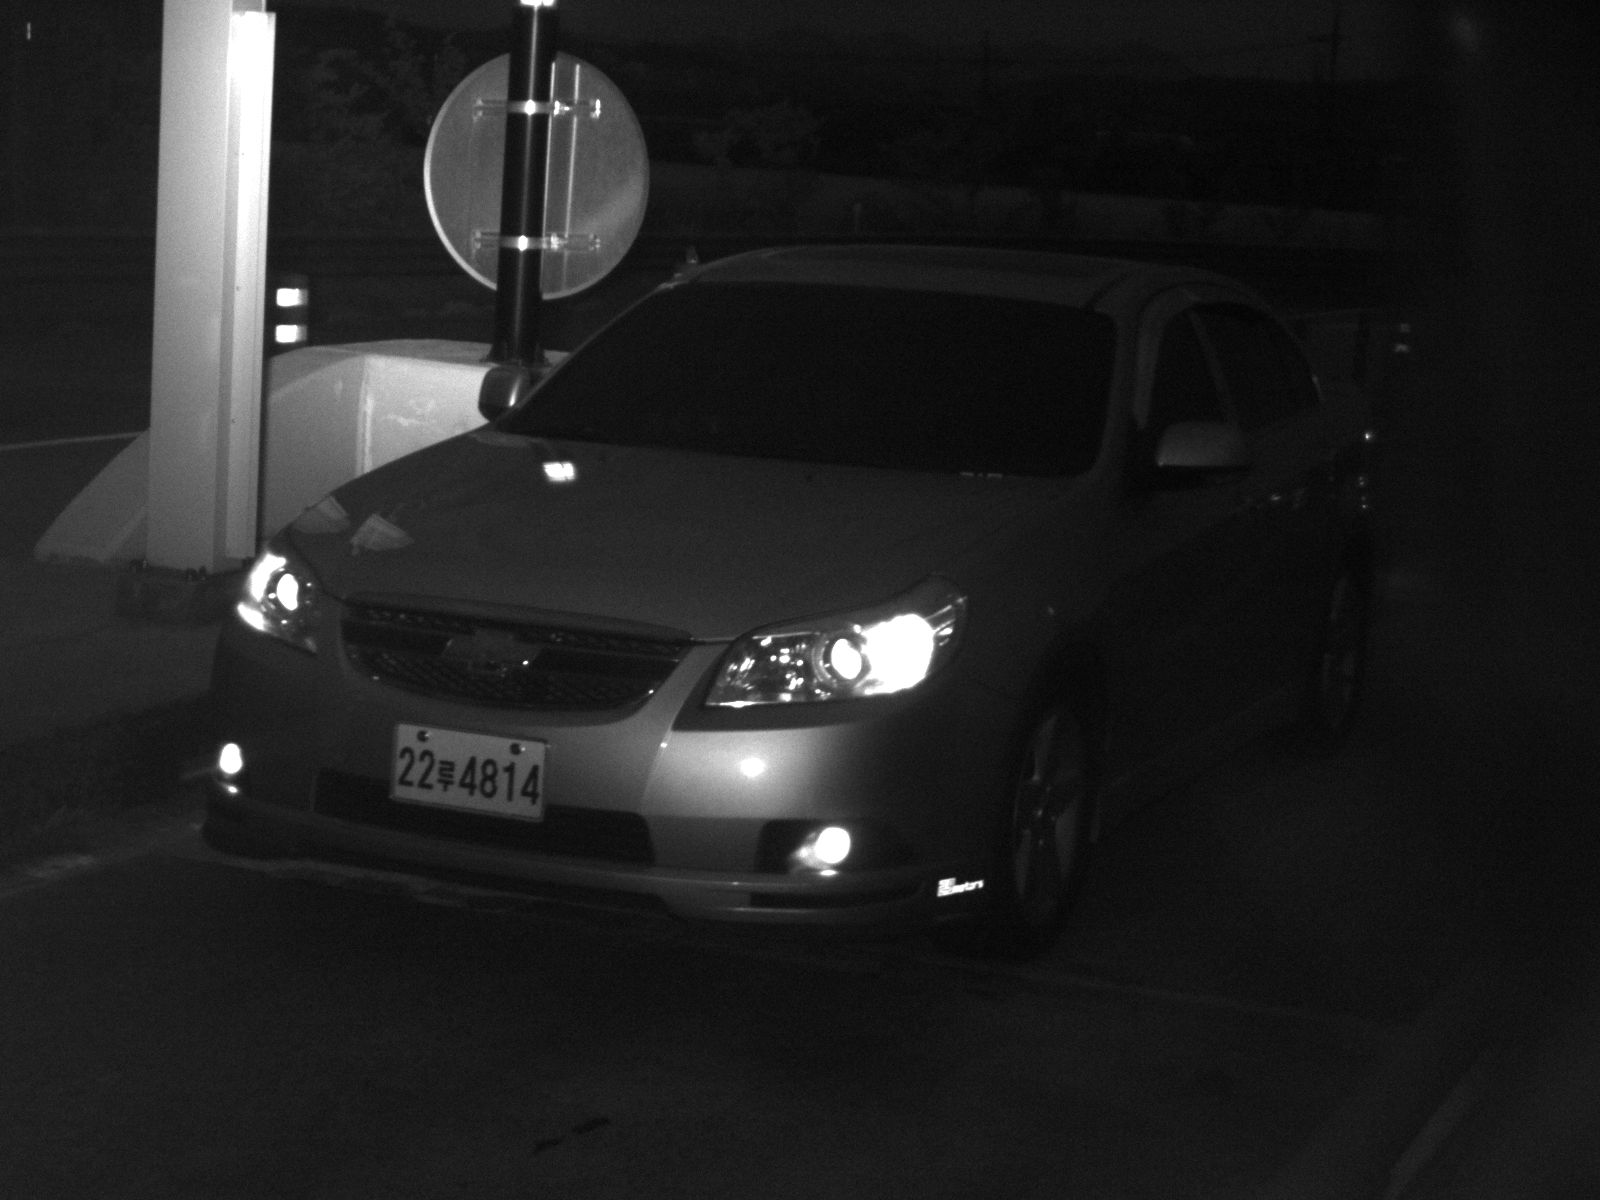car: (182, 228, 1449, 958)
plate: (384, 718, 549, 825)
